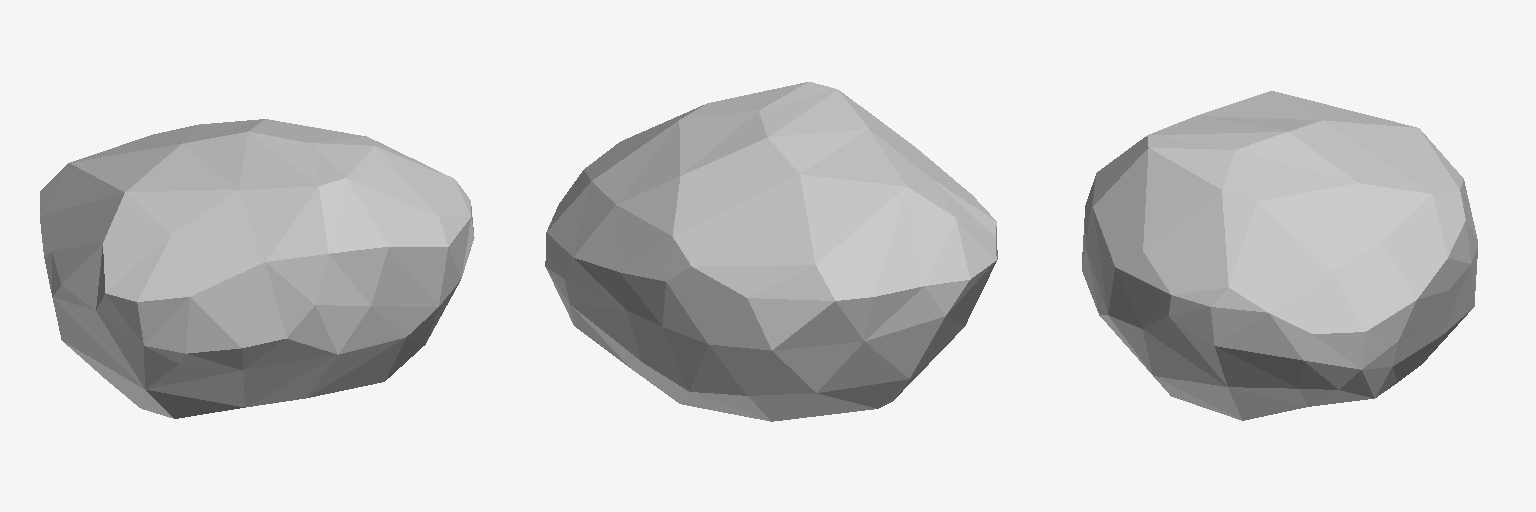
File: Rocks_01.obj
The picture shows the model from 3 angles: view 1: azimuth 30°, elevation 25°; view 2: azimuth 150°, elevation 25°; view 3: azimuth 270°, elevation 25°; orthographic projection.
Visible parts, largest first — view 1: Rock01_LP.001; view 2: Rock01_LP.001; view 3: Rock01_LP.001.
Boxes of the visible parts, box(x1,y1,x2,y2) form: Rock01_LP.001: box(40, 119, 474, 418); Rock01_LP.001: box(545, 82, 997, 421); Rock01_LP.001: box(1082, 91, 1477, 420).
Size of the model in its own units: 35.06 by 20.66 by 30.37.